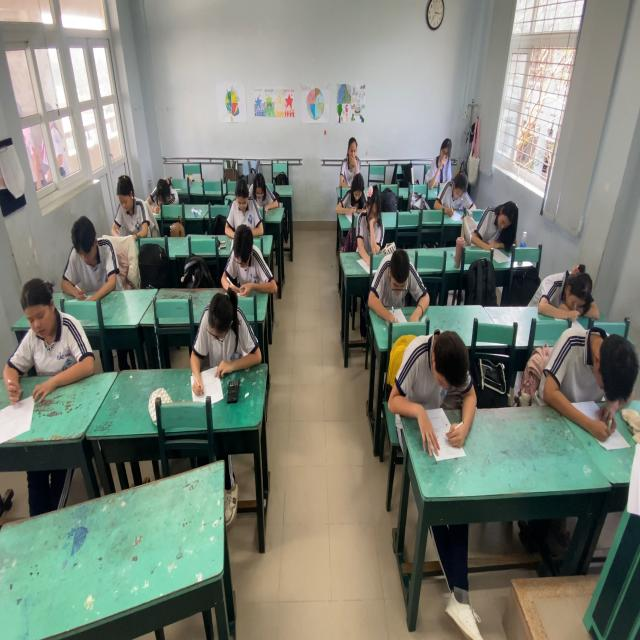not_cheating: (10, 271, 86, 383), (556, 316, 630, 416), (399, 327, 474, 411), (195, 286, 247, 376), (370, 242, 430, 314), (67, 218, 118, 300), (227, 224, 272, 288), (540, 256, 588, 316), (473, 192, 517, 256), (114, 170, 145, 255), (355, 192, 387, 262), (338, 171, 370, 228), (436, 161, 474, 209), (230, 180, 262, 230), (429, 130, 458, 183), (338, 132, 366, 183), (152, 166, 176, 219), (252, 166, 274, 214)
